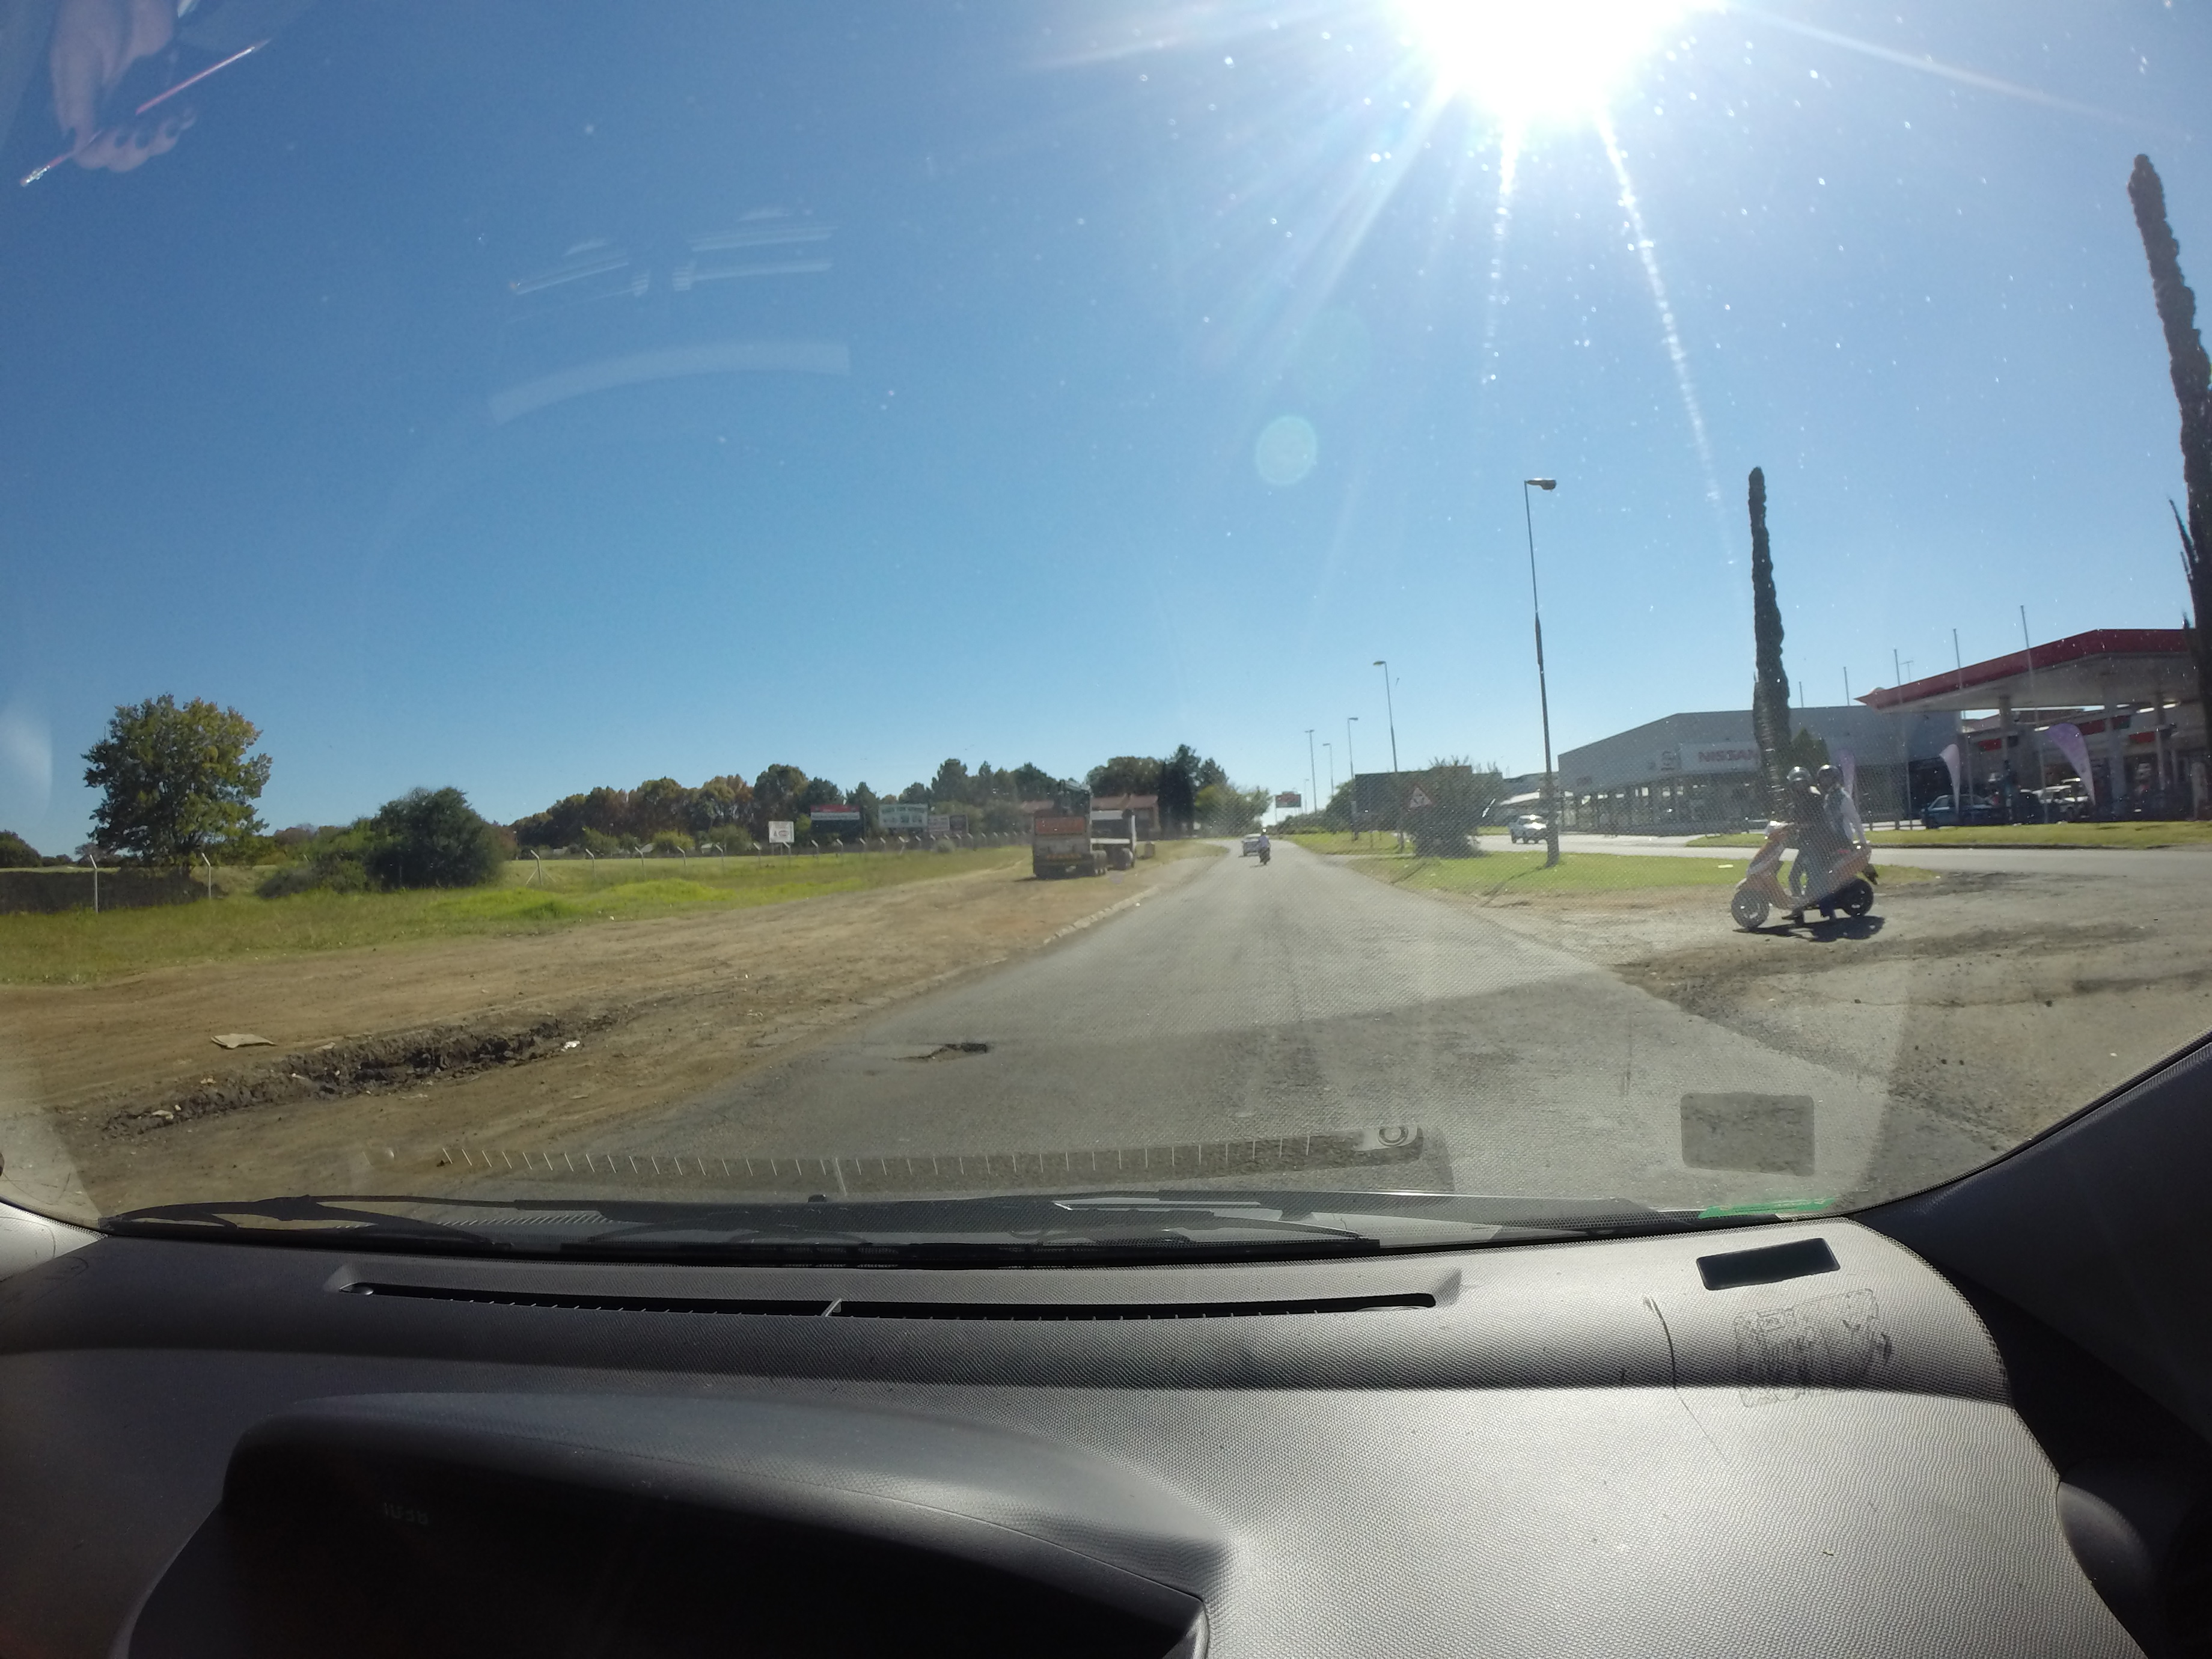pothole: (902, 983, 1024, 1075)
